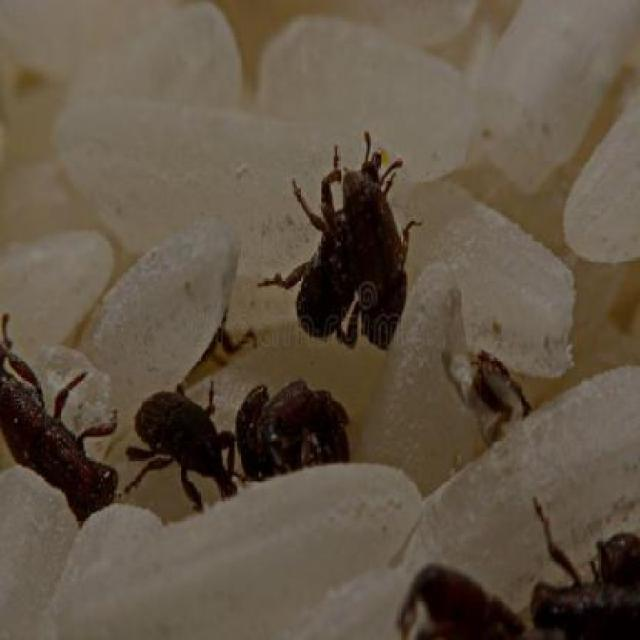rice-bug: (278, 144, 425, 342), (0, 315, 117, 534), (132, 366, 235, 517), (242, 368, 364, 488), (533, 524, 638, 640), (392, 555, 528, 640), (468, 352, 538, 428)
